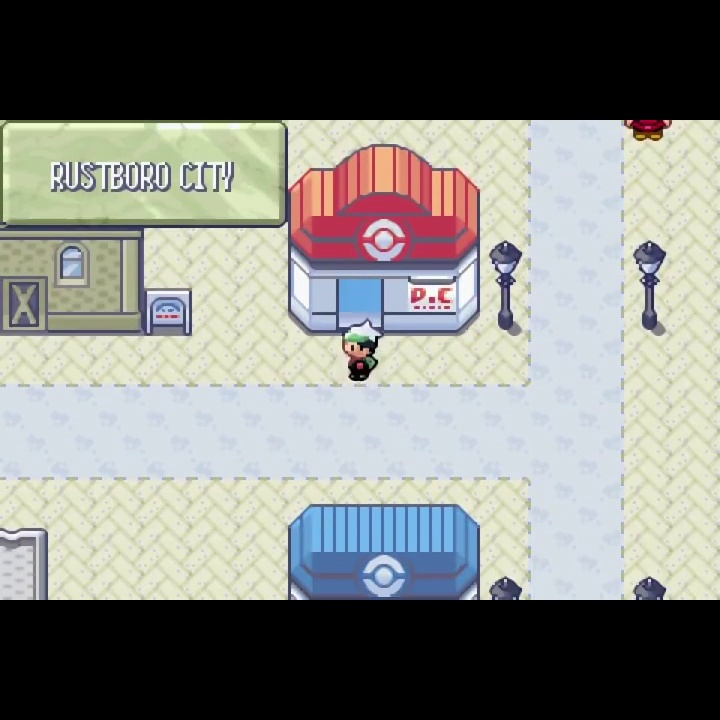house: (1, 224, 145, 336)
npc: (342, 319, 383, 383)
pokecen: (287, 143, 482, 338)
pokemart: (286, 503, 482, 601)
